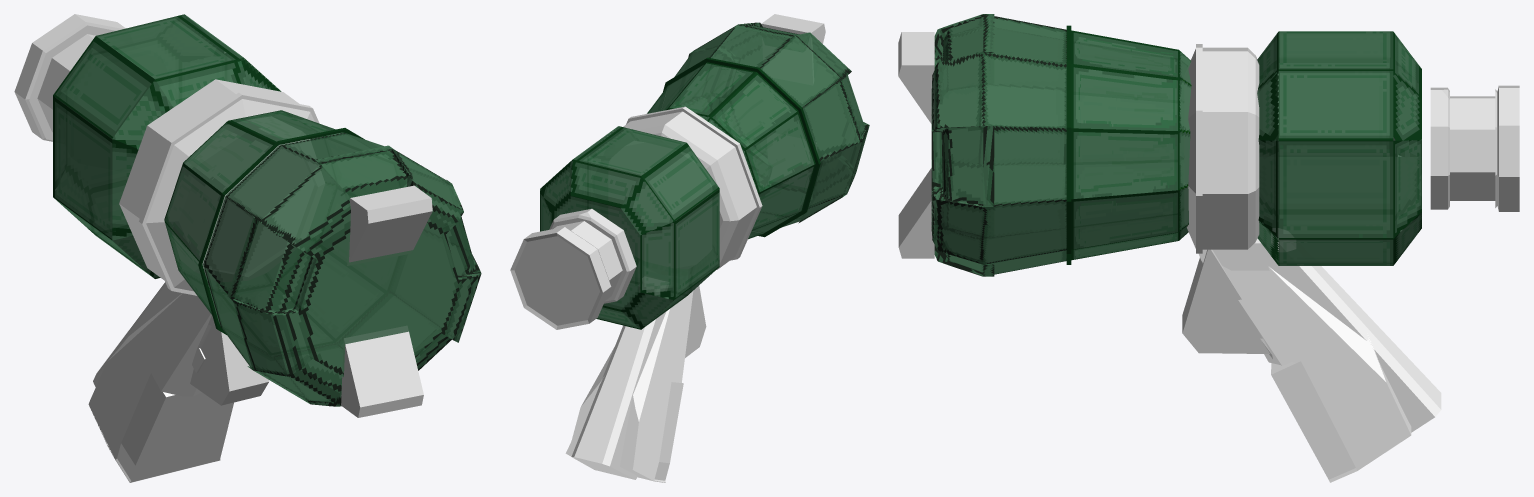
Rendered from steampunkgun.glb.
3 views of the same model, side by side, from view 1: azimuth 30°, elevation 25°; view 2: azimuth 150°, elevation 25°; view 3: azimuth 270°, elevation 25° (orthographic). The views are drawn at different scales.
Parts seen in each view (by area): view 1: 柱体.001, 立方体.002, tripo_part_9.001, 柱体.002, 柱体, 立方体, 柱体.003, 立方体.001, 立方体.003, tripo_part_9; view 2: 立方体.002, 柱体.002, 柱体, 柱体.001, 柱体.003, tripo_part_9.001, tripo_part_9, 立方体.001, 立方体.003; view 3: 立方体.002, 柱体.001, 柱体, tripo_part_9.001, 柱体.002, 柱体.003, tripo_part_9, 立方体.003, 立方体.001, 立方体.
Boxes of the visible parts, left/top/right/bottom form: 柱体.001: left=203, top=132, right=481, bottom=406; 立方体.002: left=53, top=14, right=281, bottom=278; tripo_part_9.001: left=88, top=293, right=233, bottom=482; 柱体.002: left=119, top=79, right=319, bottom=295; 柱体: left=164, top=110, right=364, bottom=334; 立方体: left=341, top=331, right=423, bottom=417; 柱体.003: left=14, top=14, right=125, bottom=141; 立方体.001: left=349, top=185, right=432, bottom=262; 立方体.003: left=190, top=315, right=269, bottom=405; tripo_part_9: left=93, top=282, right=211, bottom=386; 立方体.002: left=540, top=126, right=719, bottom=329; 柱体.002: left=609, top=106, right=762, bottom=269; 柱体: left=647, top=57, right=820, bottom=239; 柱体.001: left=674, top=22, right=869, bottom=227; 柱体.003: left=510, top=208, right=636, bottom=329; tripo_part_9.001: left=565, top=291, right=693, bottom=482; tripo_part_9: left=571, top=277, right=688, bottom=479; 立方体.001: left=761, top=14, right=825, bottom=43; 立方体.003: left=685, top=285, right=706, bottom=357; 立方体.002: left=1257, top=31, right=1421, bottom=265; 柱体.001: left=931, top=14, right=1066, bottom=276; 柱体: left=1066, top=25, right=1191, bottom=264; tripo_part_9.001: left=1222, top=266, right=1411, bottom=482; 柱体.002: left=1187, top=44, right=1259, bottom=253; 柱体.003: left=1430, top=85, right=1519, bottom=211; tripo_part_9: left=1199, top=228, right=1441, bottom=432; 立方体.003: left=1182, top=249, right=1269, bottom=353; 立方体.001: left=898, top=32, right=934, bottom=123; 立方体: left=898, top=168, right=934, bottom=258.
Bounding box in the file's own units: 0.4107 × 0.7351 × 0.9585.
Materials: 6 (3 with a texture image).
